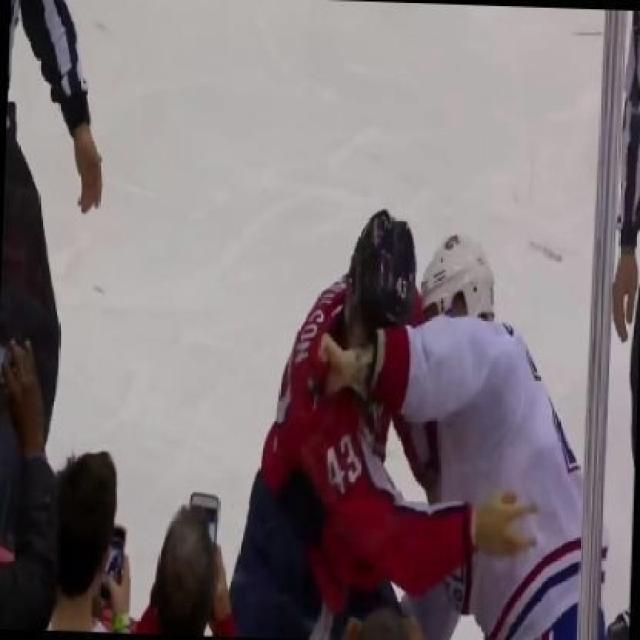fight: (225, 207, 604, 640)
